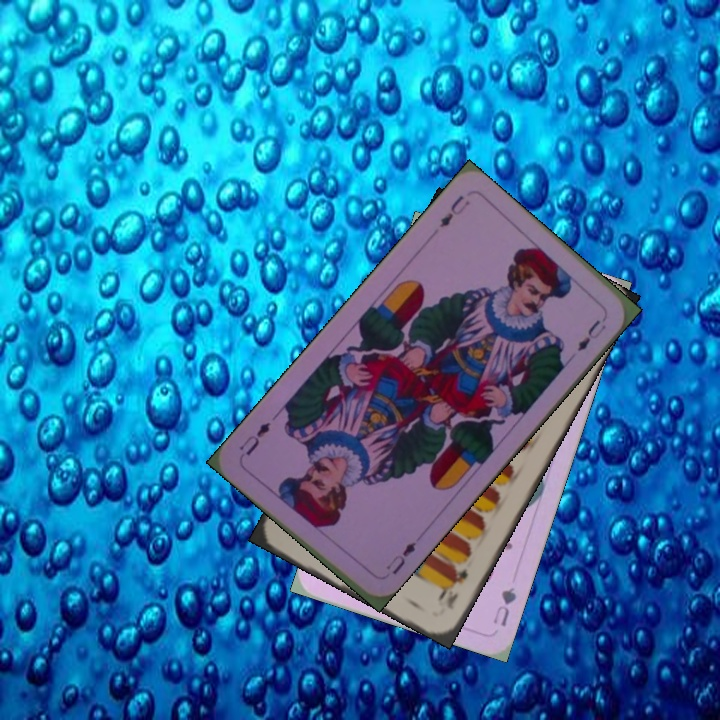E10: (436, 563, 471, 612)
EU: (378, 537, 418, 582), (436, 191, 472, 230)
GU: (489, 583, 519, 629)
